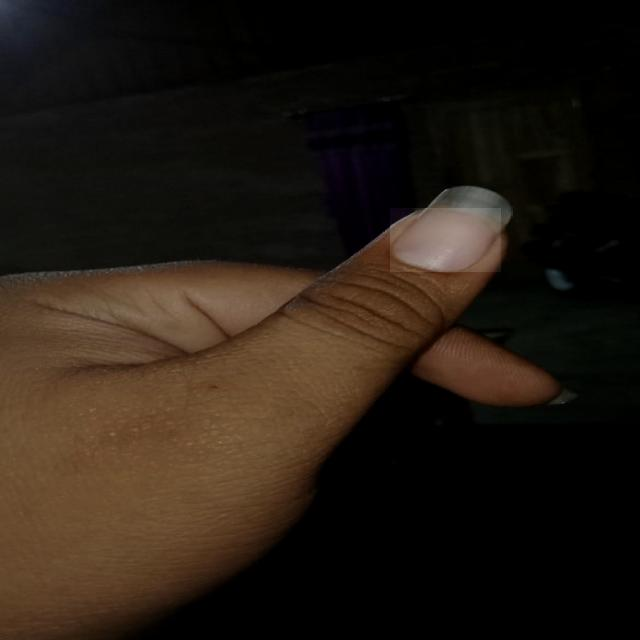sehat: (391, 208, 501, 272)
